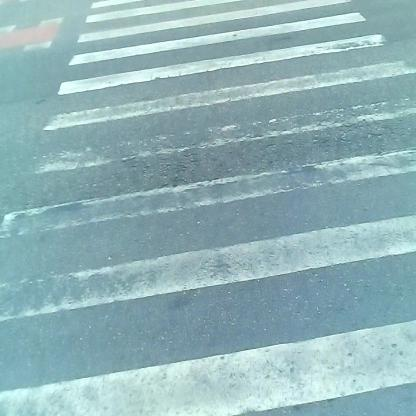crosswalk: (16, 5, 413, 416)
